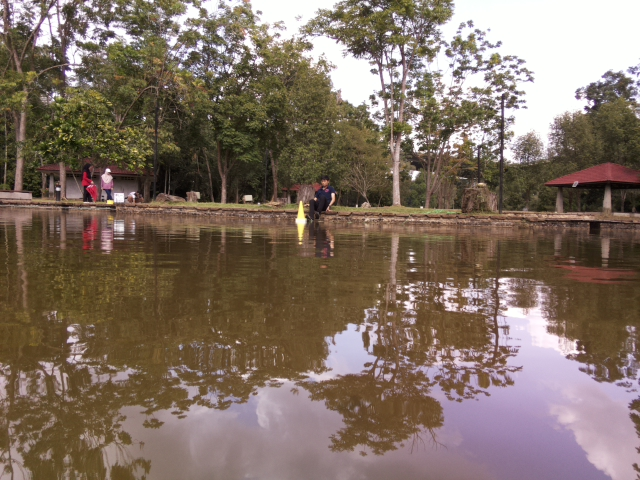checkpoint: (294, 198, 308, 223)
